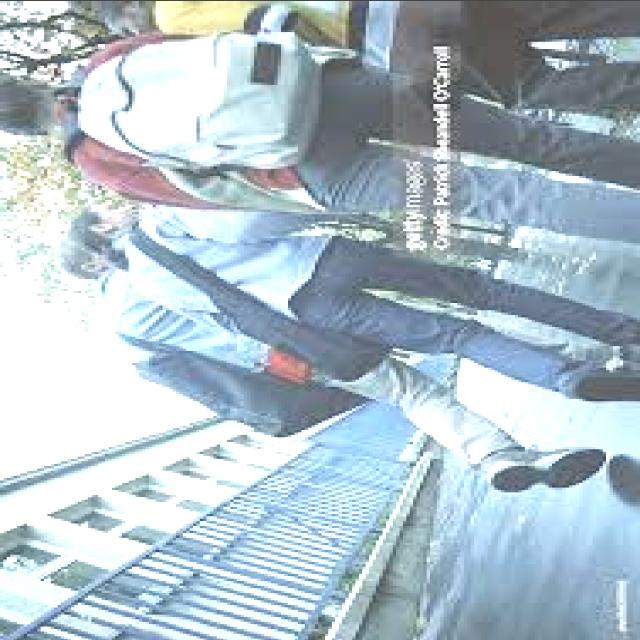backpack: (51, 19, 331, 185)
